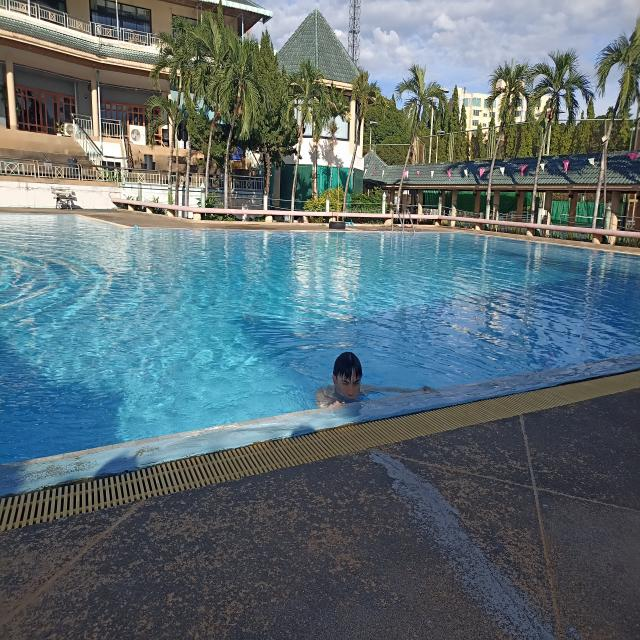Swimming: (310, 346, 381, 419)
